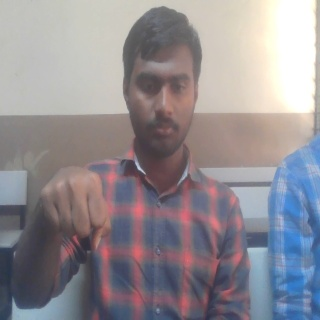Face: (122, 6, 201, 158)
Yes: (37, 165, 112, 251)
